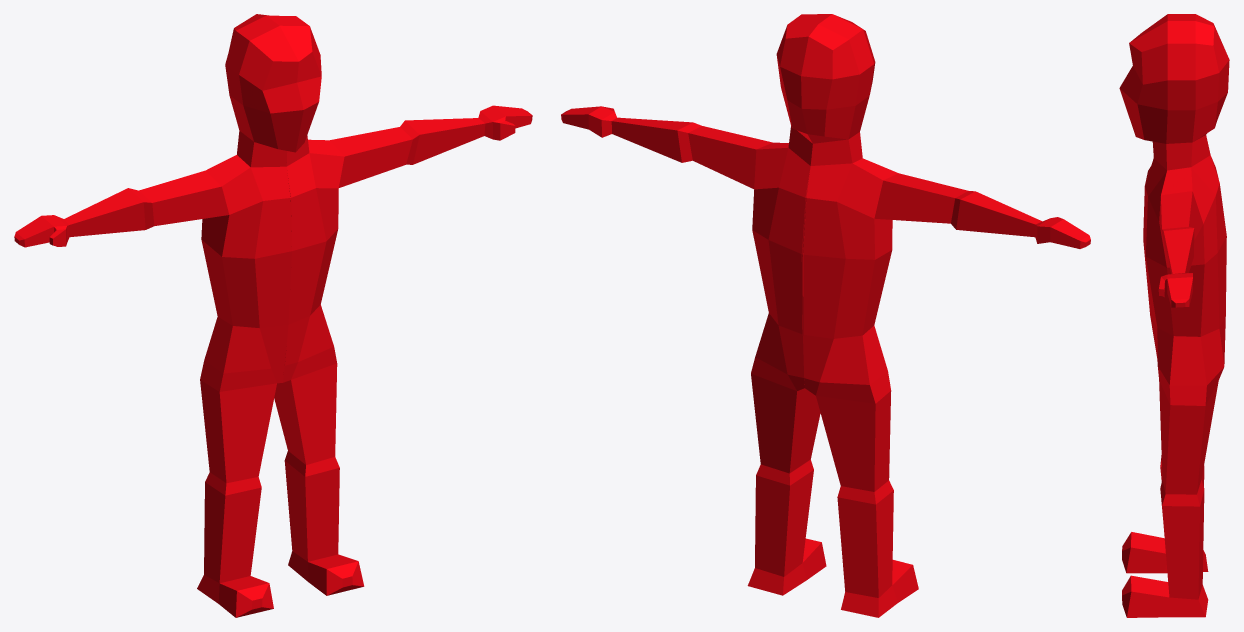
3 renders of one model, left to right at view 1: azimuth 30°, elevation 25°; view 2: azimuth 150°, elevation 25°; view 3: azimuth 270°, elevation 25°, orthographic. The views are drawn at different scales.
Visible parts, largest first — view 1: Cube; view 2: Cube; view 3: Cube.
Part boxes in pixels (left/top/right/bottom): Cube: left=14, top=14, right=532, bottom=617; Cube: left=561, top=14, right=1090, bottom=617; Cube: left=1119, top=14, right=1229, bottom=617.
Bounding box in the file's own units: 1201 × 1256 × 222.
